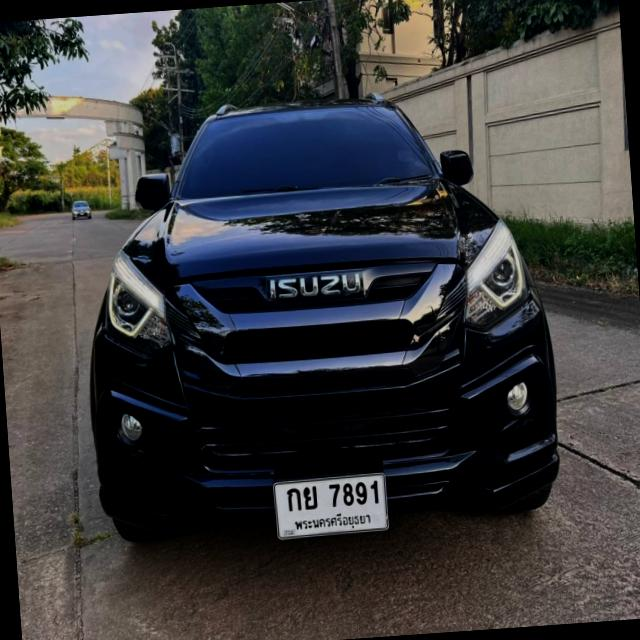license_plate: (268, 460, 401, 546)
